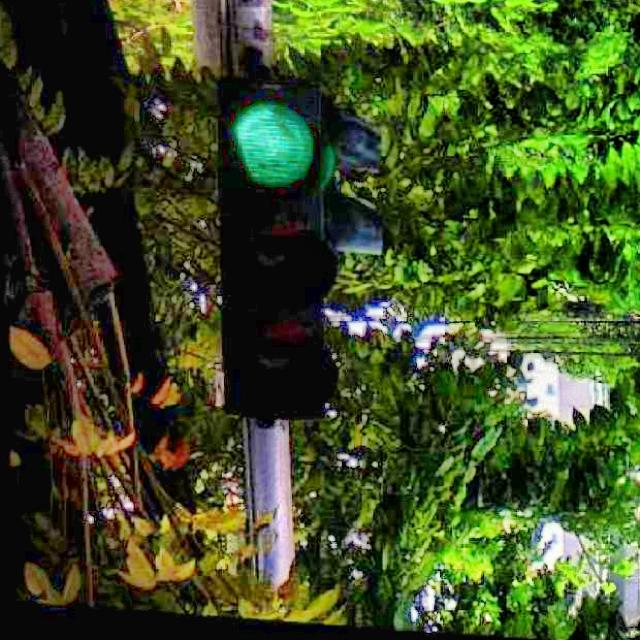green: (232, 80, 338, 419)
